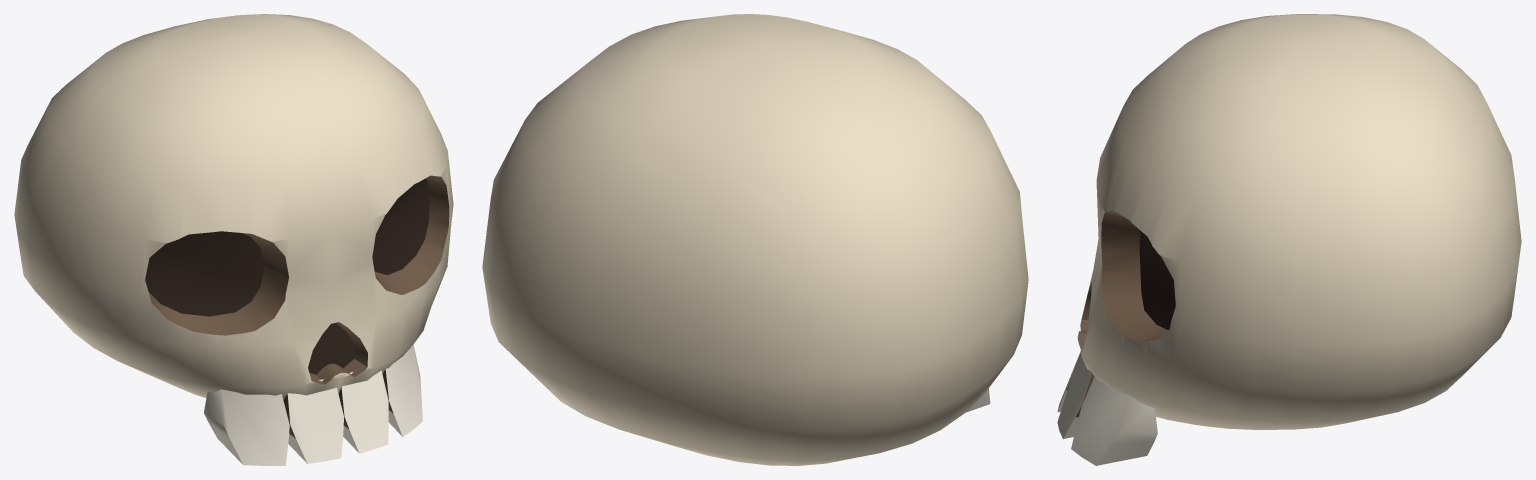
The model's file is skull.glb.
3 views of the same model, side by side, from view 1: azimuth 30°, elevation 25°; view 2: azimuth 150°, elevation 25°; view 3: azimuth 270°, elevation 25° (orthographic). The views are drawn at different scales.
Parts seen in each view (by area): view 1: SkullBody, SkullTeeth; view 2: SkullBody; view 3: SkullBody, SkullTeeth.
Part boxes in pixels (bbox=[...]): SkullBody: bbox=[14, 14, 453, 399]; SkullTeeth: bbox=[204, 345, 422, 465]; SkullBody: bbox=[482, 14, 1028, 465]; SkullBody: bbox=[1077, 14, 1521, 429]; SkullTeeth: bbox=[1057, 352, 1157, 465].
Bounding box in the file's own units: 1.88 × 1.59 × 1.79.
